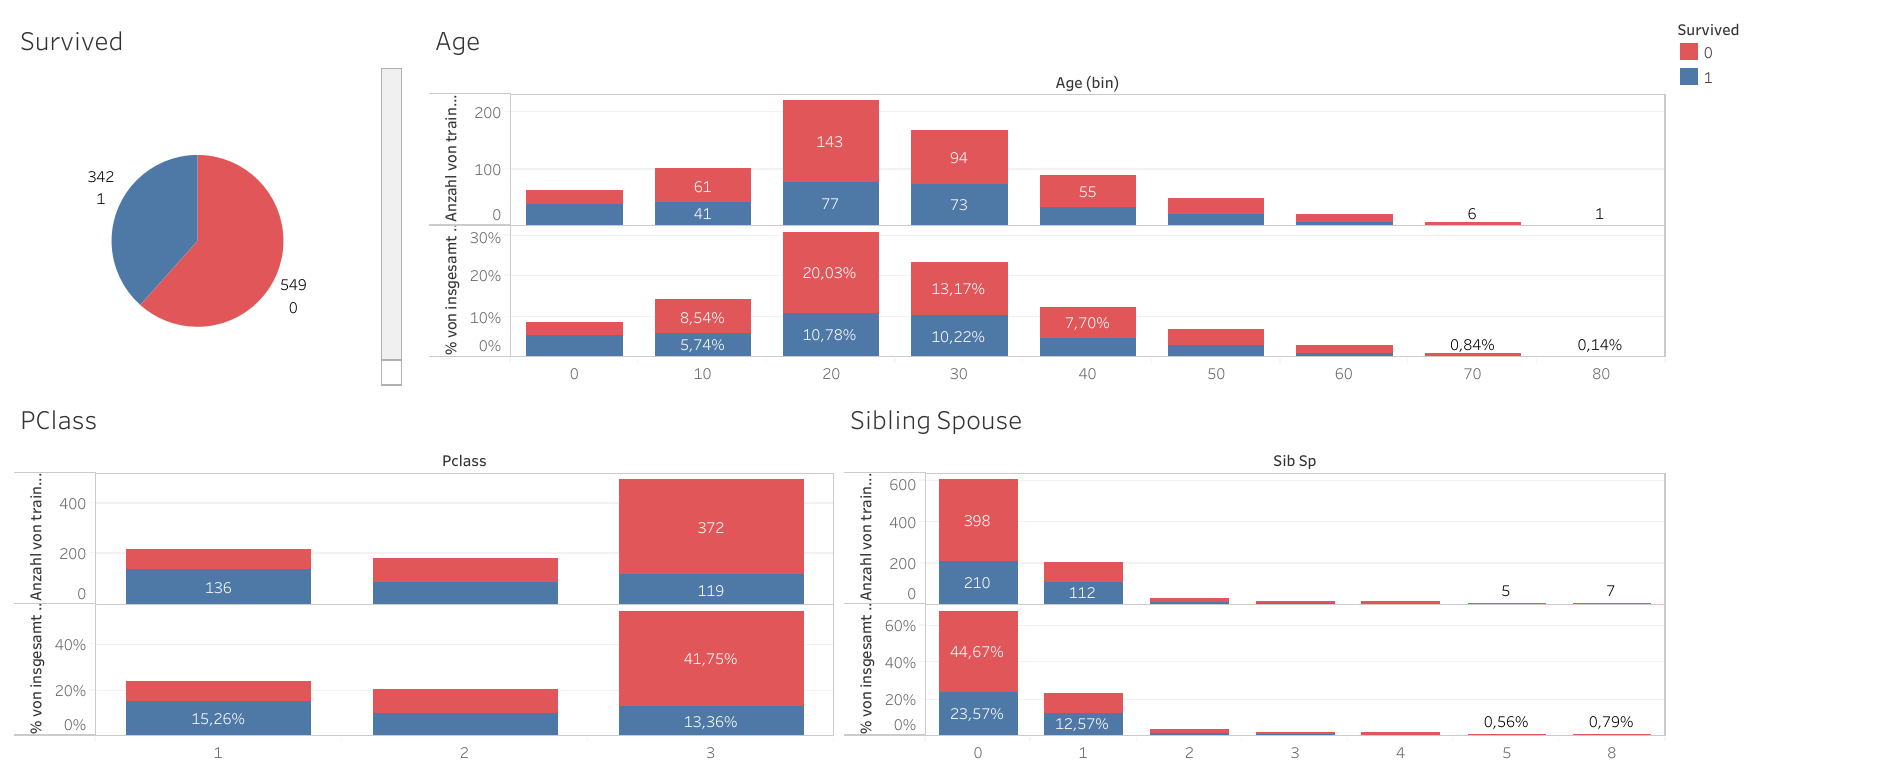

This screenshot's page, from the dashboard's own definition file:
{"tool":"tableau","page":{"name":"Dashboard 1","canvas":[1000,1000],"units":"permille","ordinal":0},"visuals":[{"type":"worksheet","title":"Survived","mark":"Pie","box":[4.8,9.3,223.4,490.7]},{"type":"worksheet","title":"Age","mark":"Automatic","rows":["train.csv_C8552C3D3D0340BEB3AAAA462553F027","train.csv_C8552C3D3D0340BEB3AAAA462553F027"],"cols":["Age (bin)"],"box":[228.3,9.3,670.3,490.7]},{"type":"legend","title":"Age","param":"[federated.17kefvs0idrhe114e5bsh0o2vzeh].[none:Survived:ok]","box":[898.6,9.3,96.6,83.6]},{"type":"worksheet","title":"PClass","mark":"Automatic","rows":["train.csv_C8552C3D3D0340BEB3AAAA462553F027","train.csv_C8552C3D3D0340BEB3AAAA462553F027"],"cols":["Pclass"],"box":[4.8,500,446.9,490.7]},{"type":"worksheet","title":"Sibling Spouse","mark":"Automatic","rows":["train.csv_C8552C3D3D0340BEB3AAAA462553F027","train.csv_C8552C3D3D0340BEB3AAAA462553F027"],"cols":["SibSp"],"box":[451.7,500,446.9,490.7]}]}

Visuals, with their boxes on the dashboard's canvas, which has no fixed pixel size, in thousandths of its width and height (x1, y1, x2, y2). These are canvas units, not pixel positions in the 1880x778 screenshot, which may show the page scaled, cropped or inside an application window:
"Survived" worksheet (Pie marks): (5,9,228,500)
"Age" worksheet: (228,9,899,500)
"Age" legend: (899,9,995,93)
"PClass" worksheet: (5,500,452,991)
"Sibling Spouse" worksheet: (452,500,899,991)
